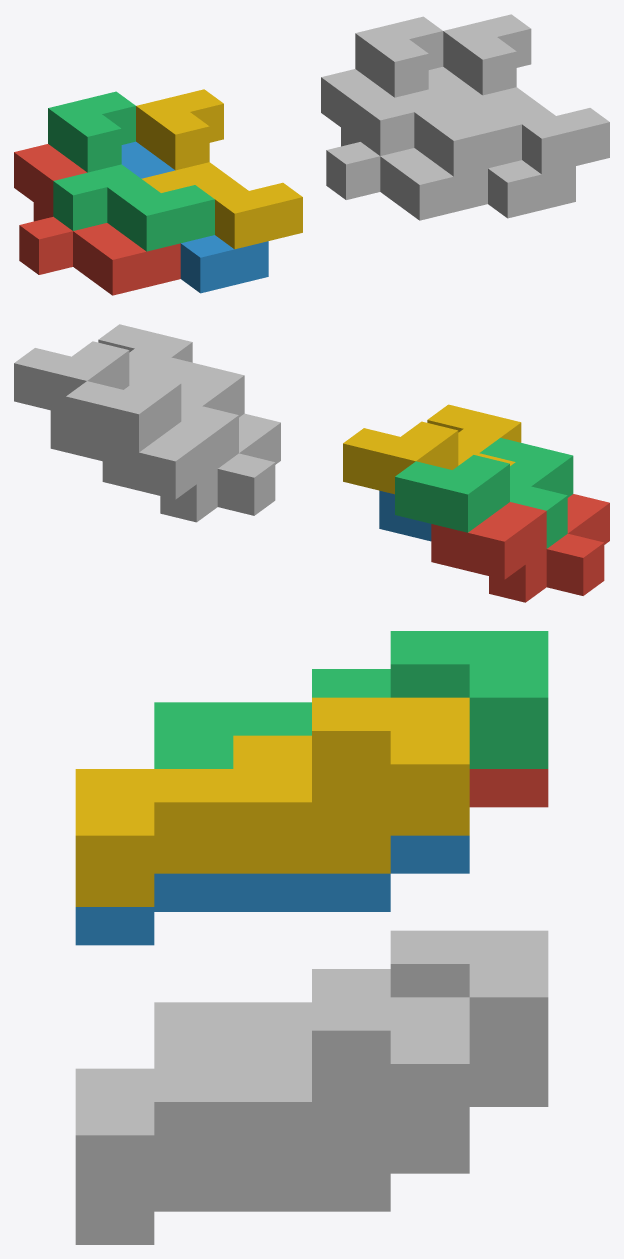
Rendered from tiling.obj.
The picture shows the model from 3 angles, top to bottom: view 1: azimuth 30°, elevation 25°; view 2: azimuth 150°, elevation 25°; view 3: azimuth 270°, elevation 25°; orthographic projection. The views are drawn at different scales.
Visible parts, largest first — view 1: copy_1_domain_7, copy_1_domain_3, copy_1_domain_8, copy_1_domain_4, copy_1_domain_1, copy_1_domain_5, copy_1_domain_2, copy_1_domain_6; view 2: copy_1_domain_1, copy_1_domain_5, copy_1_domain_7, copy_1_domain_3, copy_1_domain_4, copy_1_domain_8, copy_1_domain_6, copy_1_domain_2; view 3: copy_1_domain_8, copy_1_domain_4, copy_1_domain_7, copy_1_domain_3, copy_1_domain_2, copy_1_domain_6, copy_1_domain_1, copy_1_domain_5.
Part boxes in pixels (x1,y1,x2,y2): copy_1_domain_7: (355,16,521,176); copy_1_domain_3: (48,91,214,251); copy_1_domain_8: (443,14,609,174); copy_1_domain_4: (136,89,302,249); copy_1_domain_1: (14,144,180,295); copy_1_domain_5: (321,69,487,220); copy_1_domain_2: (121,141,268,293); copy_1_domain_6: (428,67,575,218); copy_1_domain_1: (431,494,609,602); copy_1_domain_5: (102,413,280,522); copy_1_domain_7: (66,357,244,468); copy_1_domain_3: (395,438,573,548); copy_1_domain_4: (343,404,521,494); copy_1_domain_8: (14,324,192,413); copy_1_domain_6: (50,410,102,461); copy_1_domain_2: (379,490,431,541); copy_1_domain_8: (75,997,469,1206); copy_1_domain_4: (75,697,469,906); copy_1_domain_7: (154,930,548,1068); copy_1_domain_3: (154,631,548,768); copy_1_domain_2: (75,835,469,945); copy_1_domain_6: (75,1135,469,1244); copy_1_domain_1: (469,769,548,807); copy_1_domain_5: (469,1068,548,1106).
Size of the model in its own units: 15 by 3 by 6.
